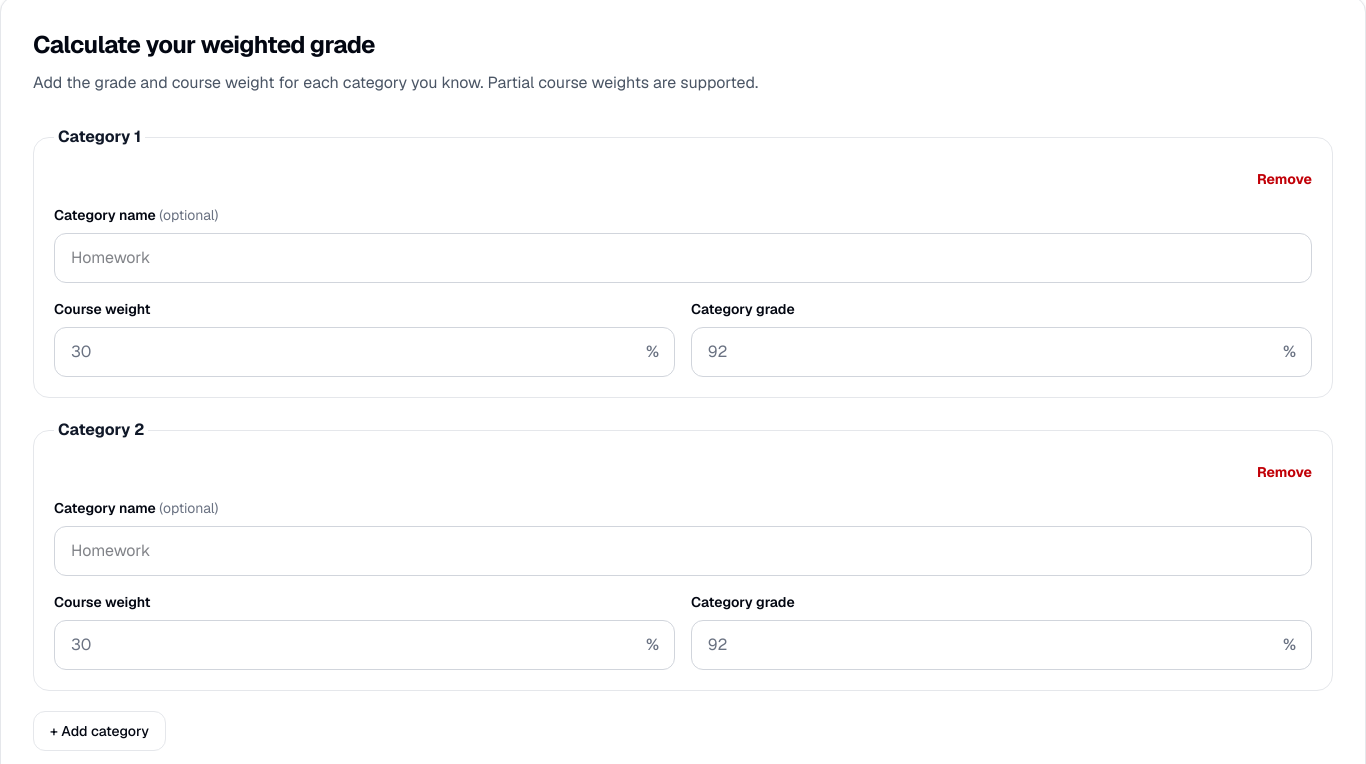
Test case: WeightedGradeCalculator › calculates a normalized grade from multiple categories
Type "25" into the 1st number field labelled "Course weight" at (364, 352), box [54,327,675,377]
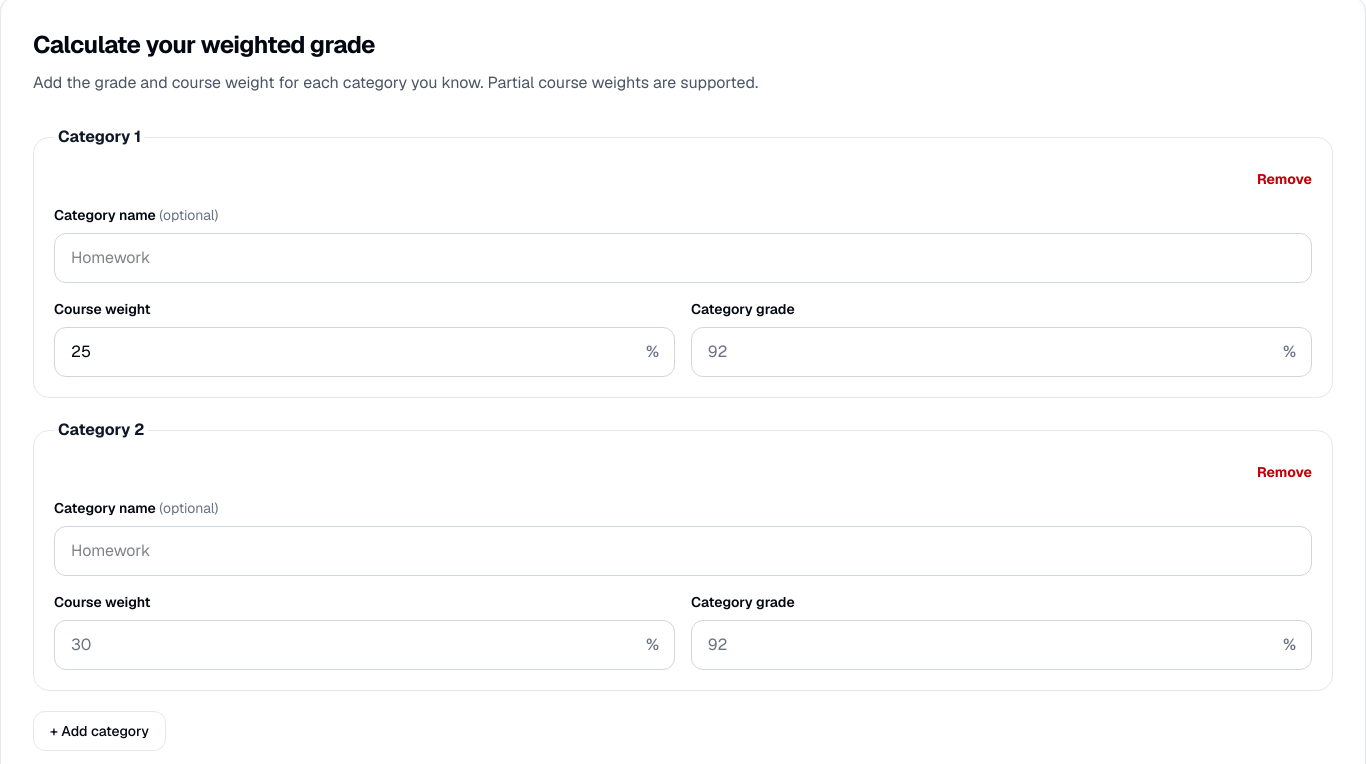
Type "80" into the 1st number field labelled "Category grade" at (1002, 352), box [691,327,1312,377]
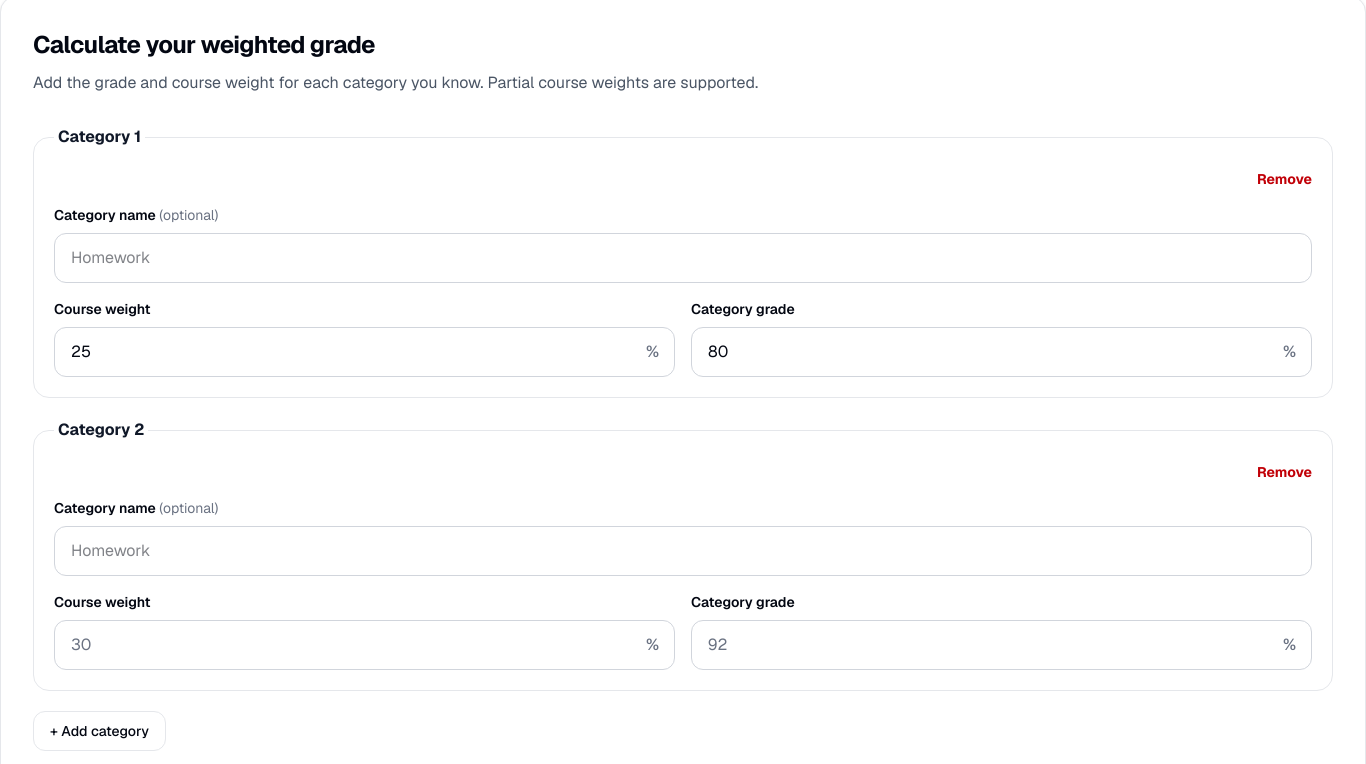
Type "25" into the 2nd number field labelled "Course weight" at (364, 645), box [54,620,675,670]
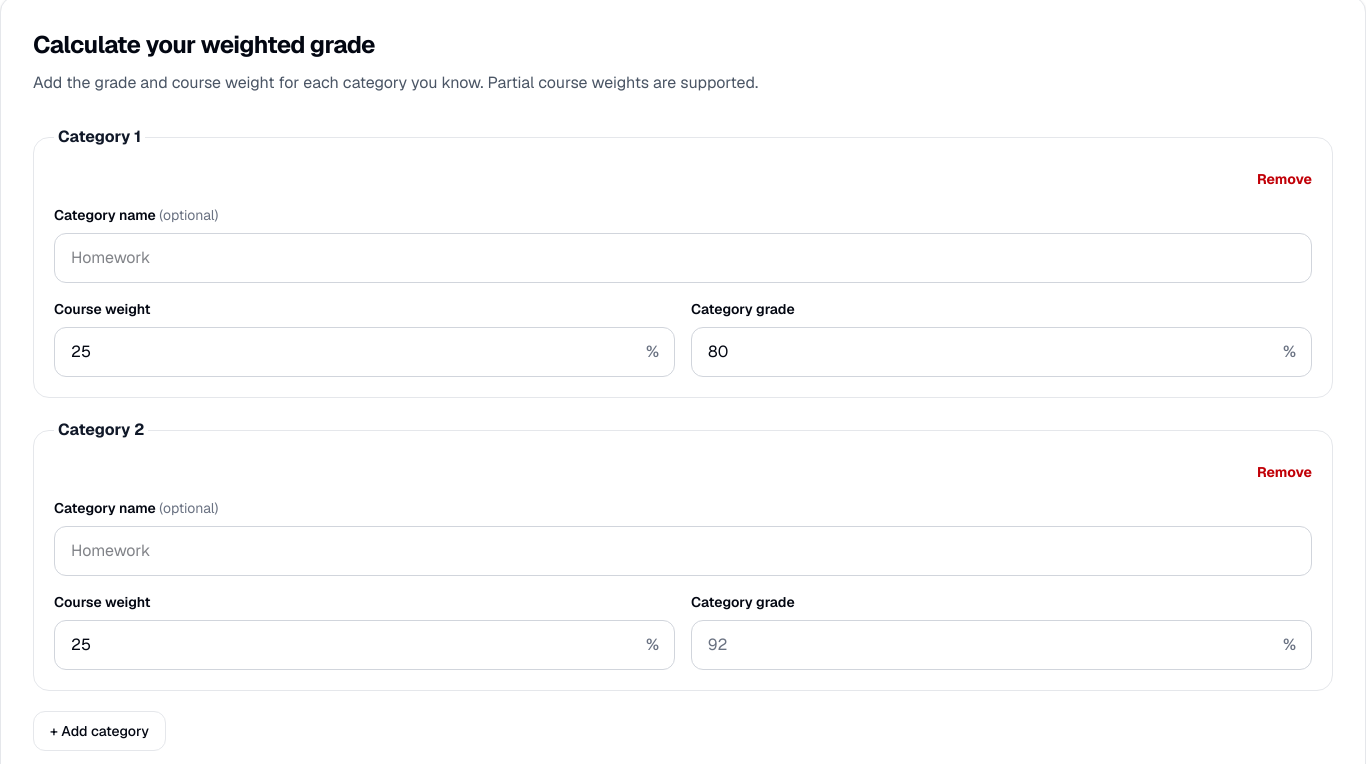
Type "100" into the 2nd number field labelled "Category grade" at (1002, 645), box [691,620,1312,670]
(page scrolled)
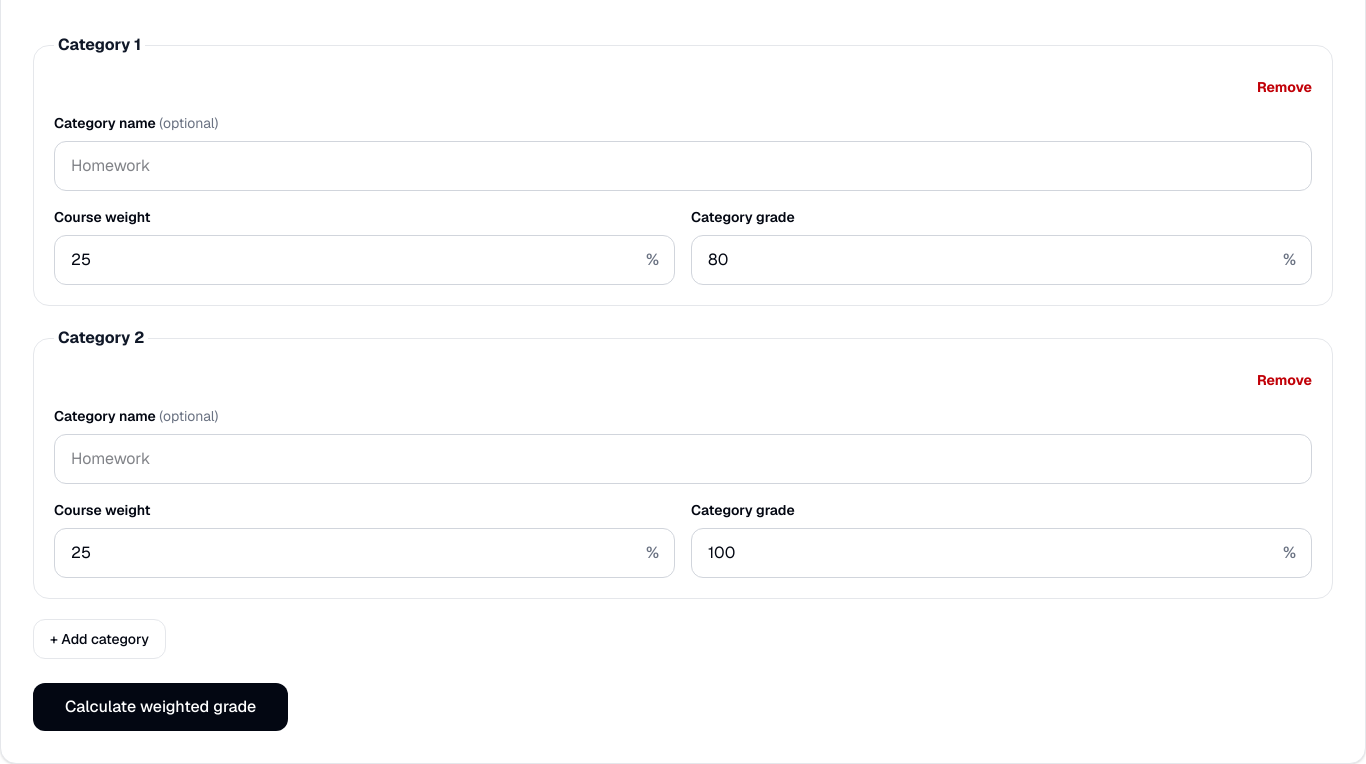
Click the button "Calculate weighted grade" at (161, 707), box [33,683,288,731]
(page scrolled)
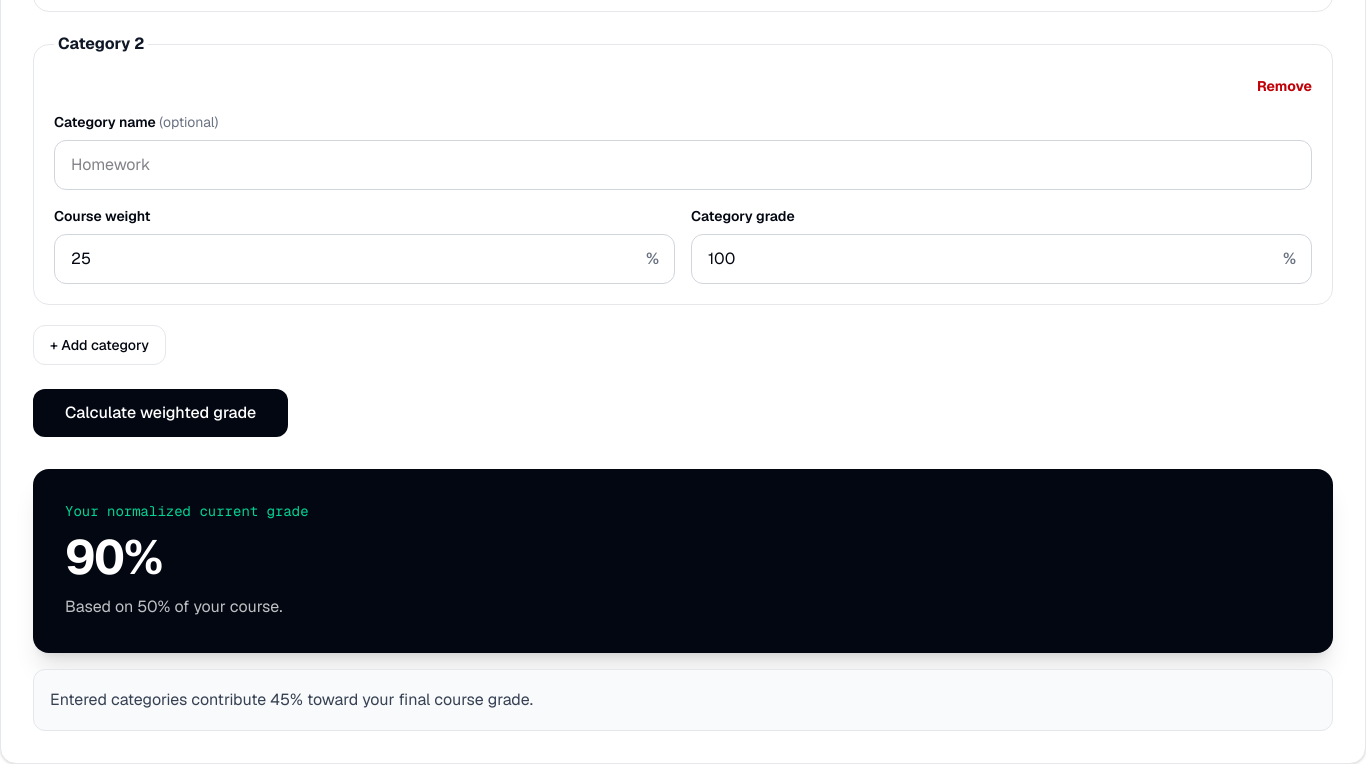
Expected: the text "90%" is shown, [65,526,162,588]
Expected: the text "Entered categories contribute 45% toward your final course grade." is shown, [33,669,1333,731]
